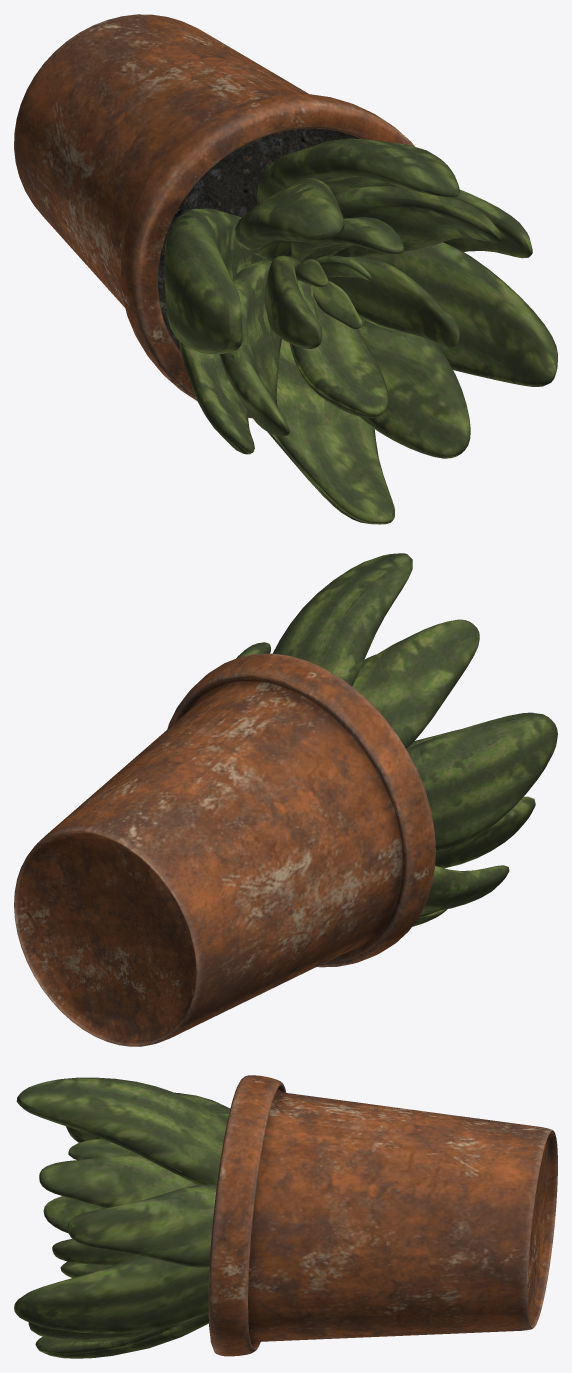
The picture shows the model from 3 angles, top to bottom: view 1: azimuth 30°, elevation 25°; view 2: azimuth 150°, elevation 25°; view 3: azimuth 270°, elevation 25°; orthographic projection. The views are drawn at different scales.
Parts seen in each view (by area): view 1: plant_Plant_0; view 2: plant_Plant_0; view 3: plant_Plant_0.
Part boxes in pixels (x1,y1,x2,y2): plant_Plant_0: [14, 14, 557, 524]; plant_Plant_0: [14, 553, 557, 1046]; plant_Plant_0: [14, 1075, 557, 1358].
Size of the model in its own units: 0.0409 by 0.0425 by 0.0726.
Materials: 1 (1 with a texture image).
